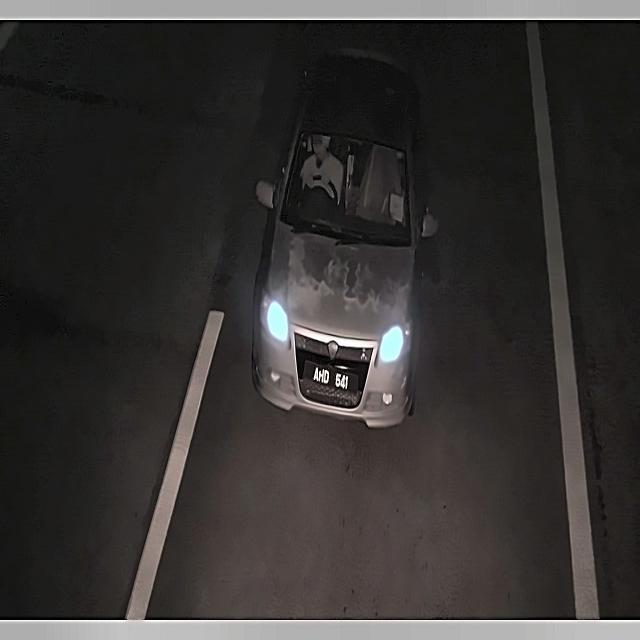car: (301, 359, 362, 400)
